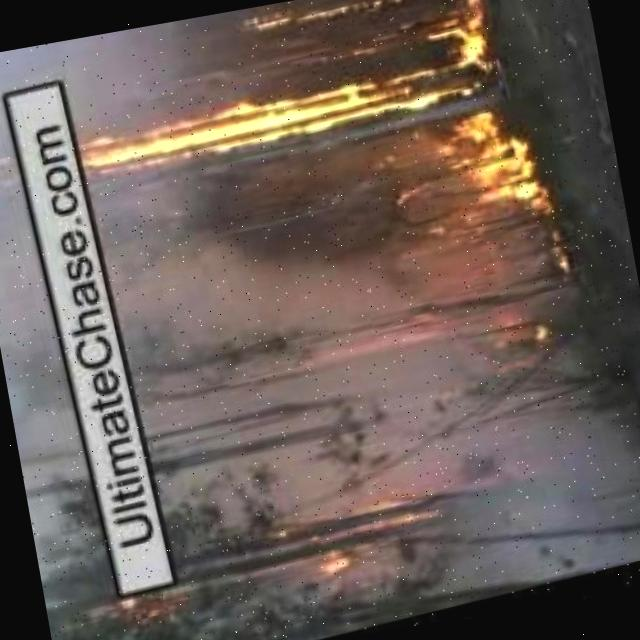fire: (67, 51, 508, 199), (238, 481, 450, 614), (417, 107, 563, 266), (412, 0, 498, 76), (108, 584, 171, 635)
